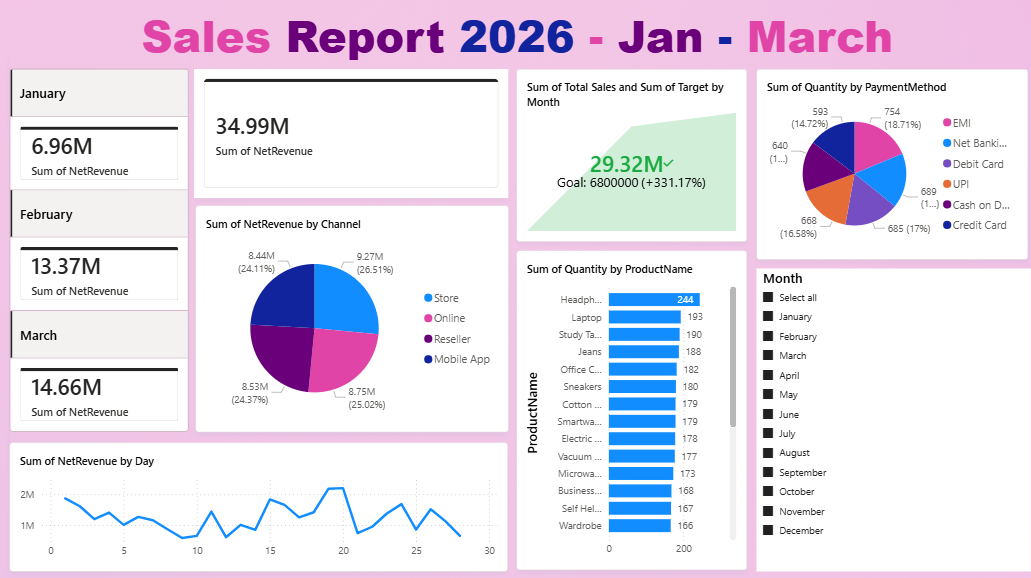

What the dashboard file says about the page in this screenshot:
{"tool":"powerbi","page":{"name":"Page 1","canvas":[1280,720],"ordinal":0},"visuals":[{"type":"textbox","box":[0,0,1279.6,85.2],"z":0},{"type":"cardVisual","fields":{"Data":["Sum(Sales_Jan.NetRevenue)"]},"box":[240.2,84.3,388.1,159.1],"z":1000},{"type":"cardVisual","fields":{"Rows":["Sales_Jan.OrderDate.Variation.Date Hierarchy.Month"],"Data":["Sum(Sales_Jan.NetRevenue)"]},"box":[12.3,64.9,221.1,489.5],"z":2000},{"type":"pieChart","fields":{"Y":["Sum(Sales_Jan.NetRevenue)"],"Category":["Sales_Jan.Channel"]},"box":[241.8,254.5,386.5,279.9],"z":3000},{"type":"lineChart","fields":{"Y":["Sum(Sales_Jan.NetRevenue)"],"Category":["Sales_Jan.OrderDate.Variation.Date Hierarchy.Day"]},"box":[12.7,547.2,615.6,159.1],"z":4000},{"type":"barChart","fields":{"Y":["Sum(Sales_Jan.Quantity)"],"Category":["Sales_Jan.ProductName"]},"box":[639.4,310.2,284.7,394.5],"z":5000},{"type":"pieChart","fields":{"Category":["Sales_Jan.PaymentMethod"],"Y":["Sum(Sales_Jan.Quantity)"]},"box":[935.3,84.3,335.6,235.4],"z":6000},{"type":"slicer","fields":{"Values":["Sales_Jan.OrderDate.Variation.Date Hierarchy.Month"]},"box":[935.3,330.8,338.8,373.8],"z":7000},{"type":"kpi","fields":{"Indicator":["Sum(Sales_Jan.Total Sales)"],"Goal":["Sum(Sales_Jan.Target)"],"TrendLine":["Sales_Jan.OrderDate.Variation.Date Hierarchy.Month"]},"box":[639.4,84.3,284.7,213.1],"z":8000}]}

Visuals, with their boxes in screenshot pixels (x1, y1, x2, y2), scaled from the page's 1280x720 canvas onto the 1031x578 screenshot:
textbox: box(0, 0, 1030, 68)
cardVisual - Sum(Sales_Jan.NetRevenue): box(193, 68, 506, 195)
cardVisual - Sales_Jan.OrderDate.Variation.Date Hierarchy.Month x Sum(Sales_Jan.NetRevenue): box(10, 52, 188, 445)
pieChart - Sum(Sales_Jan.NetRevenue) x Sales_Jan.Channel: box(195, 204, 506, 429)
lineChart - Sum(Sales_Jan.NetRevenue) x Sales_Jan.OrderDate.Variation.Date Hierarchy.Day: box(10, 439, 506, 567)
barChart - Sum(Sales_Jan.Quantity) x Sales_Jan.ProductName: box(515, 249, 744, 566)
pieChart - Sales_Jan.PaymentMethod x Sum(Sales_Jan.Quantity): box(753, 68, 1024, 257)
slicer - Sales_Jan.OrderDate.Variation.Date Hierarchy.Month: box(753, 266, 1026, 566)
kpi - Sum(Sales_Jan.Total Sales) x Sum(Sales_Jan.Target): box(515, 68, 744, 239)
